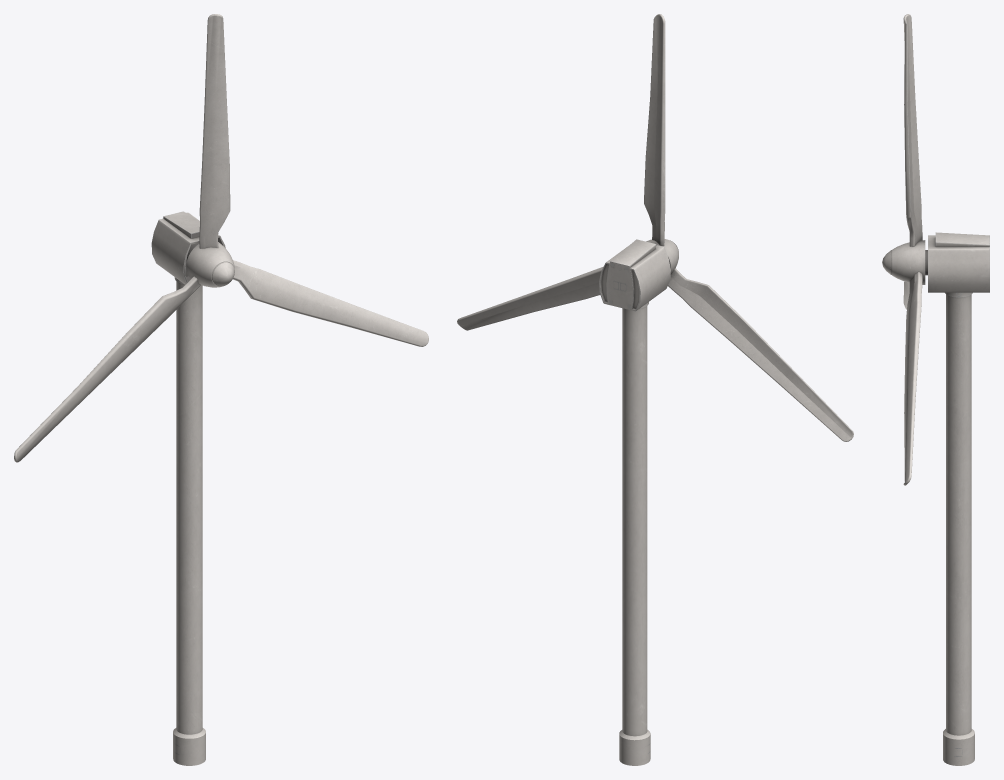
3 views of the same model, side by side, from view 1: azimuth 30°, elevation 25°; view 2: azimuth 150°, elevation 25°; view 3: azimuth 270°, elevation 25° (orthographic). The views are drawn at different scales.
Parts seen in each view (by area): view 1: Blades, Main Unit; view 2: Main Unit, Blades; view 3: Main Unit, Blades.
Part boxes in pixels (x1,y1,x2,y2): Blades: [14, 14, 428, 462]; Main Unit: [151, 211, 225, 765]; Main Unit: [599, 239, 670, 765]; Blades: [457, 14, 853, 441]; Main Unit: [928, 232, 989, 765]; Blades: [882, 14, 927, 485].
Bounding box in the file's own units: 4545 × 7985 × 1049.
Materials: 1 (1 with a texture image).
